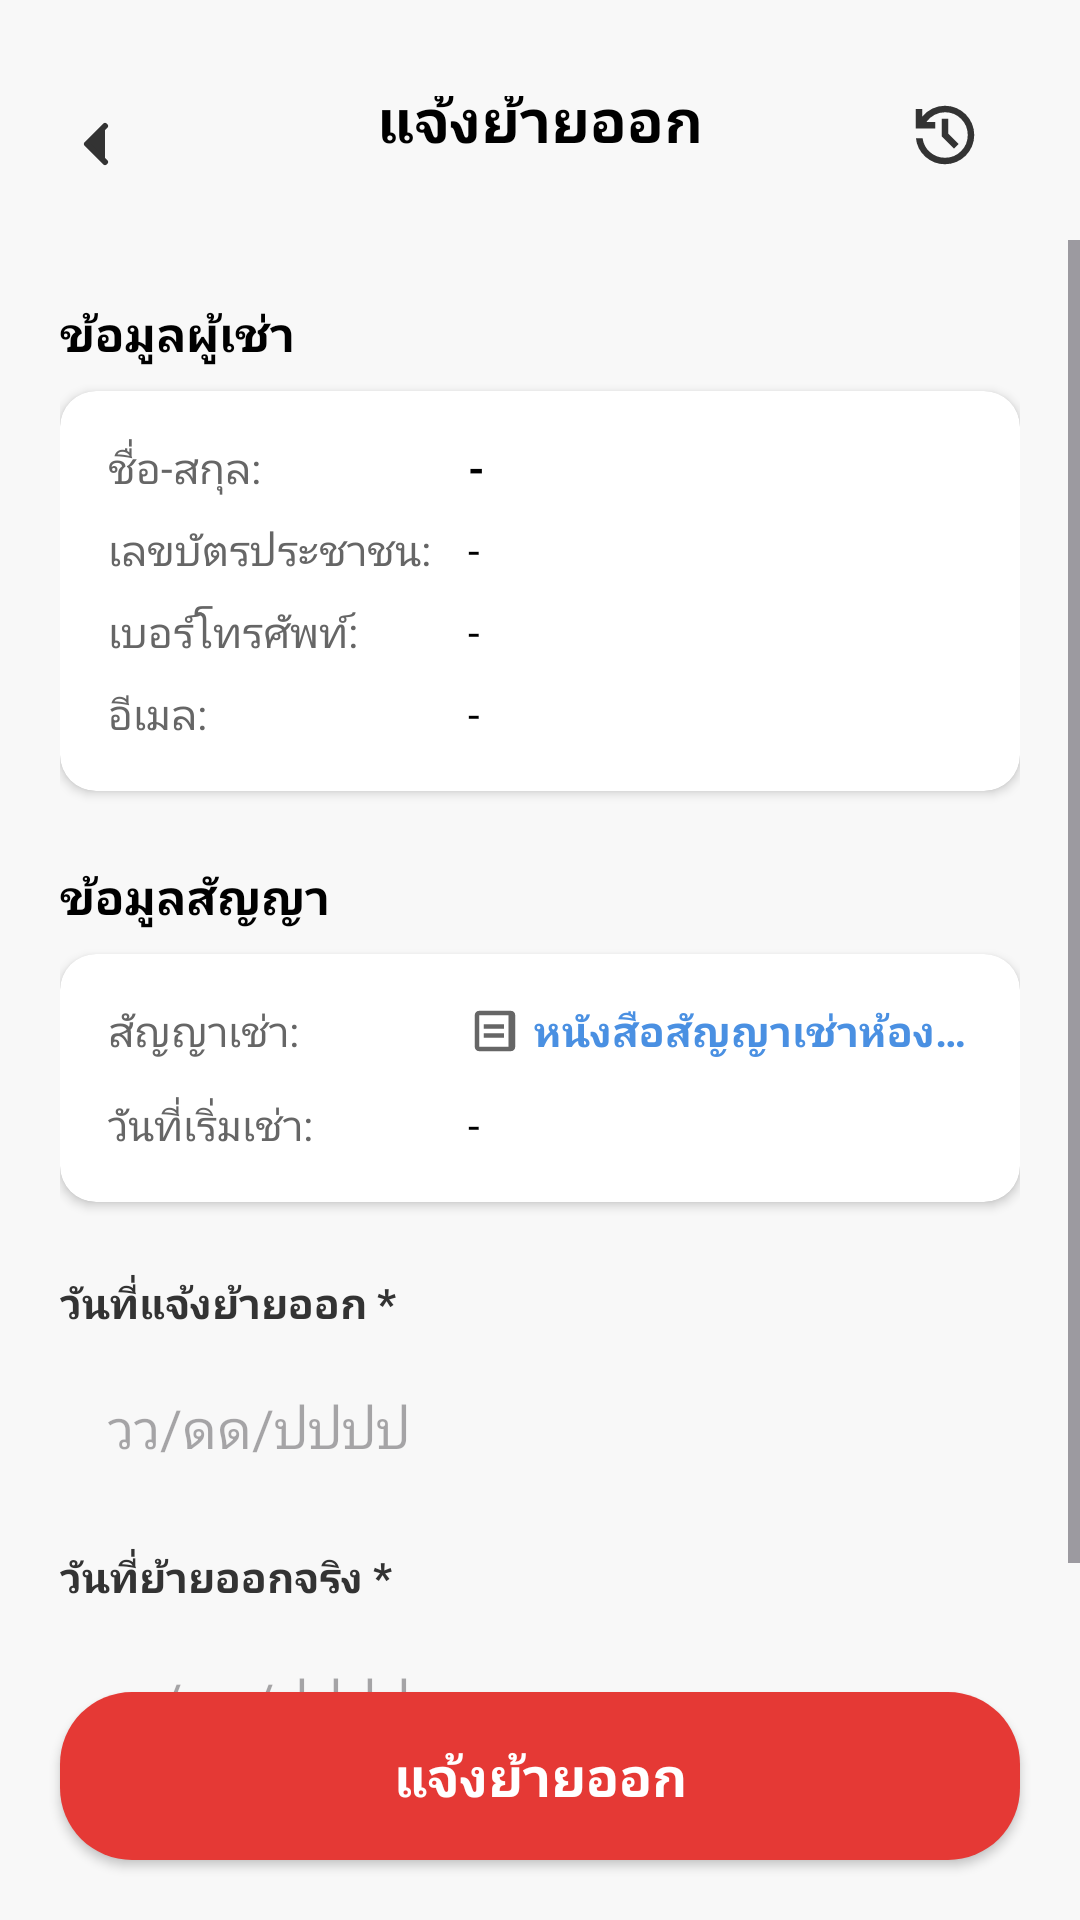

Point at icon controls on the screen. Image size 1080x1920, points as (x=x, y=y).
back gg: (x=96, y=144)
history gg: (x=945, y=135)
list: (x=495, y=1031)
